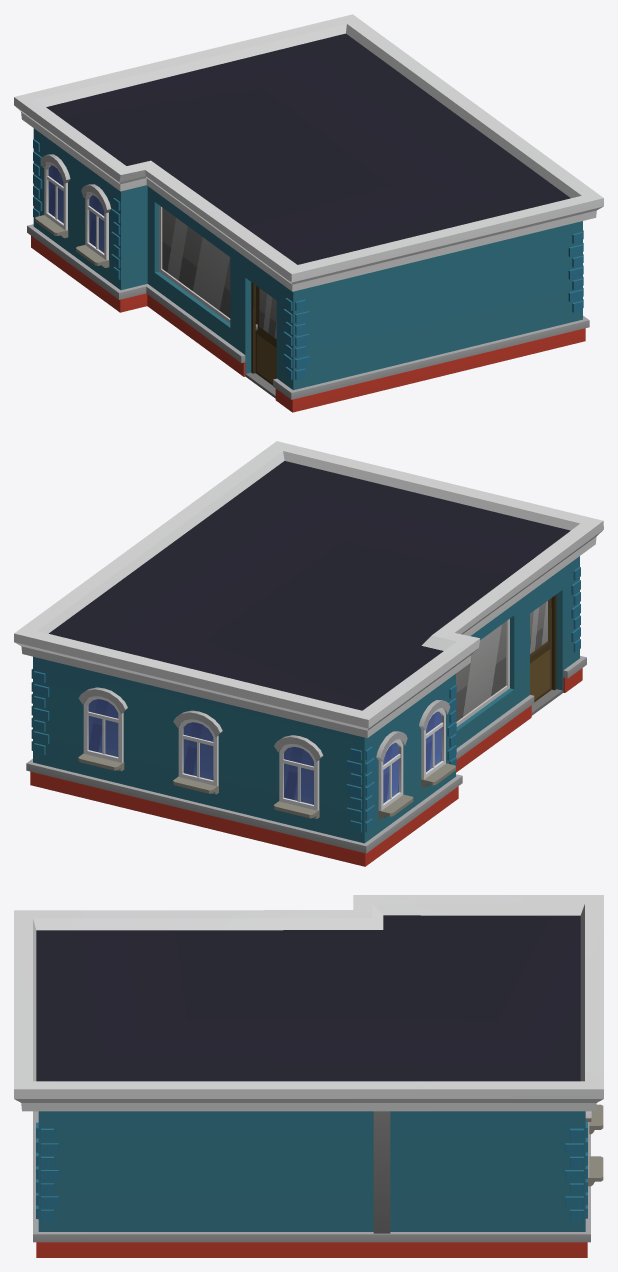
File: Building_1_1_I.glb
3 renders of one model, top to bottom at view 1: azimuth 30°, elevation 25°; view 2: azimuth 150°, elevation 25°; view 3: azimuth 270°, elevation 25°, orthographic. The views are drawn at different scales.
Visible parts, largest first — view 1: Building_1_1_I; view 2: Building_1_1_I; view 3: Building_1_1_I.
Part boxes in pixels (x1,y1,x2,y2): Building_1_1_I: (14,14,603,412); Building_1_1_I: (14,441,603,866); Building_1_1_I: (14,895,603,1257).
Size of the model in its own units: 8.22 by 3.41 by 10.51.
Materials: 3 (3 with a texture image).
